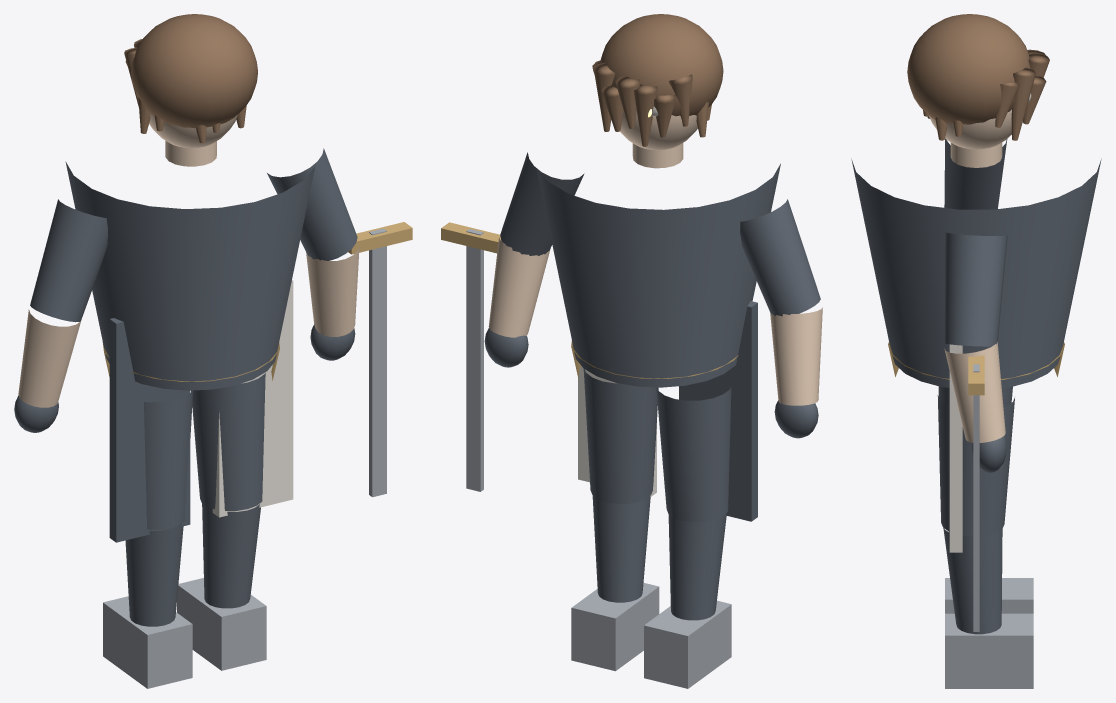
Rendered from raon-procedural-v1.glb.
3 renders of one model, left to right at view 1: azimuth 30°, elevation 25°; view 2: azimuth 150°, elevation 25°; view 3: azimuth 270°, elevation 25°, orthographic. The views are drawn at different scales.
Parts seen in each view (by area): view 1: Outfit_Torso, Hair_Cap, Outfit_CoatTail_L, Body_Thigh_R, Body_UpperArm_L, Outfit_CoatTail_R, Outfit_Boot_L, Body_Thigh_L, Outfit_Boot_R, Body_Shin_R, Body_Shin_L, Weapon_SwordBlade (+8 smaller); view 2: Outfit_Torso, Body_Thigh_L, Body_Thigh_R, Hair_Cap, Outfit_CoatTail_L, Body_UpperArm_L, Outfit_Boot_L, Outfit_Boot_R, Body_Shin_R, Body_Shin_L, Weapon_SwordBlade, Body_Forearm_L (+14 smaller); view 3: Outfit_Torso, Hair_Cap, Body_UpperArm_R, Outfit_Boot_R, Body_Thigh_R, Body_Shin_R, Body_Forearm_R, Body_UpperArm_L, Outfit_CoatTail_R, Weapon_SwordBlade, Body_Head, Outfit_Boot_L (+8 smaller).
Part boxes in pixels (box(x1,y1,x2,y2)): Outfit_Torso: box(65, 161, 315, 390); Hair_Cap: box(131, 14, 257, 128); Outfit_CoatTail_L: box(109, 318, 190, 542); Body_Thigh_R: box(191, 372, 265, 510); Body_UpperArm_L: box(30, 199, 107, 322); Outfit_CoatTail_R: box(212, 280, 293, 517); Outfit_Boot_L: box(103, 596, 192, 688); Body_Thigh_L: box(144, 390, 192, 529); Outfit_Boot_R: box(177, 578, 266, 670); Body_Shin_R: box(202, 503, 260, 608); Body_Shin_L: box(125, 523, 183, 626); Weapon_SwordBlade: box(369, 228, 386, 497); Outfit_Torso: box(536, 163, 780, 387); Body_Thigh_L: box(656, 387, 731, 522); Body_Thigh_R: box(583, 369, 658, 503); Hair_Cap: box(600, 14, 723, 116); Outfit_CoatTail_L: box(679, 301, 757, 521); Body_UpperArm_L: box(740, 199, 820, 316); Outfit_Boot_L: box(644, 600, 731, 688); Outfit_Boot_R: box(571, 583, 659, 671); Body_Shin_R: box(592, 495, 650, 602); Body_Shin_L: box(668, 514, 726, 620); Weapon_SwordBlade: box(466, 229, 483, 491); Body_Forearm_L: box(770, 307, 822, 405); Outfit_Torso: box(851, 158, 1101, 387); Hair_Cap: box(907, 14, 1030, 124); Body_UpperArm_R: box(944, 232, 1007, 346); Outfit_Boot_R: box(945, 613, 1033, 688); Body_Thigh_R: box(937, 395, 1014, 536); Body_Shin_R: box(943, 528, 1002, 634); Body_Forearm_R: box(944, 342, 1005, 442); Body_UpperArm_L: box(944, 138, 1007, 209); Outfit_CoatTail_R: box(949, 344, 962, 552); Weapon_SwordBlade: box(973, 364, 979, 631); Body_Head: box(928, 109, 1011, 149); Outfit_Boot_L: box(945, 578, 1033, 613).
Bounding box in the file's own units: 1.2 × 1.91 × 0.68.
